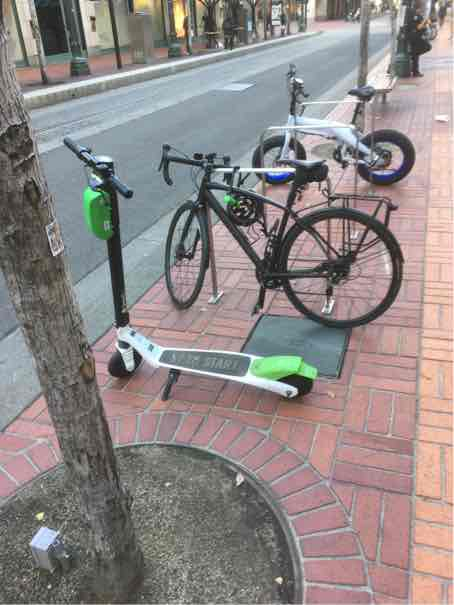scooter: (49, 133, 335, 406)
